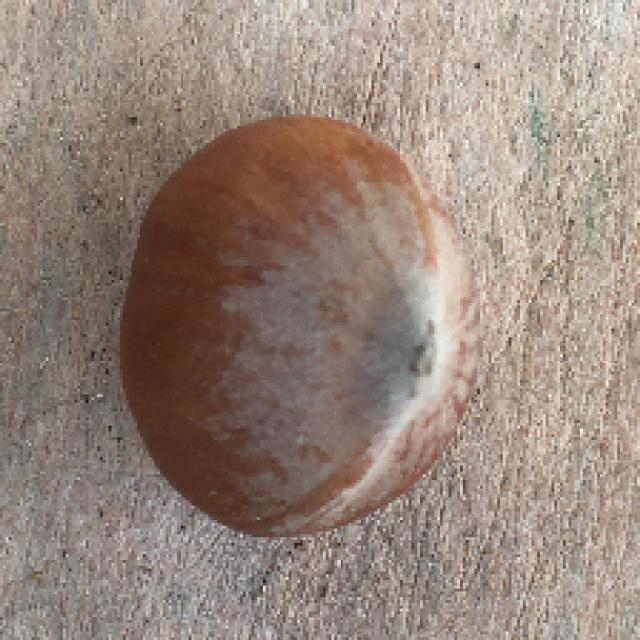qualityHazelnut: (107, 113, 481, 546)
